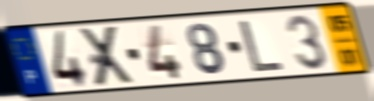3: (284, 12, 330, 72)
4: (50, 29, 89, 90), (146, 23, 183, 82)
8: (186, 22, 228, 77)
L: (238, 19, 287, 74)
X: (78, 24, 138, 90)
